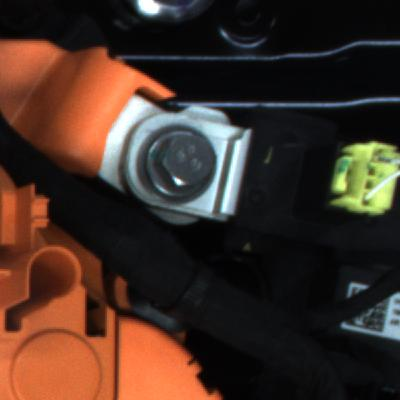nut_b: (133, 121, 227, 212)
